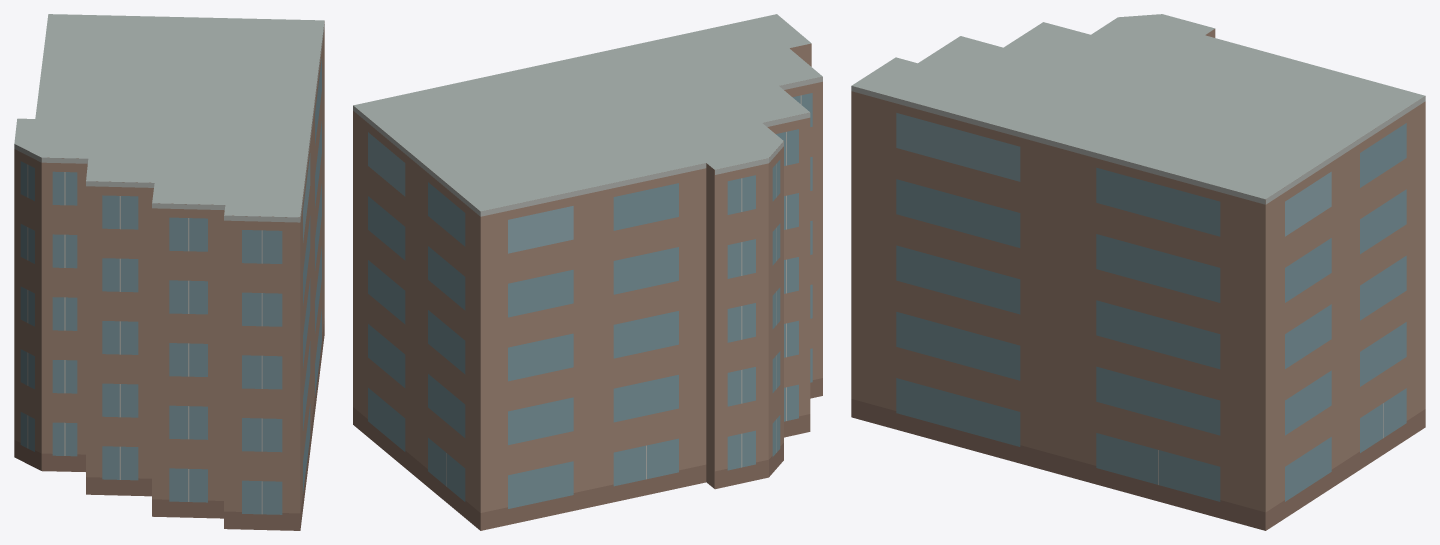
The model's file is survey-upis-32667222.glb.
3 renders of one model, left to right at view 1: azimuth 30°, elevation 25°; view 2: azimuth 150°, elevation 25°; view 3: azimuth 270°, elevation 25°, orthographic. The views are drawn at different scales.
Parts seen in each view (by area): view 1: survey-upis-32667222.tmp; view 2: survey-upis-32667222.tmp; view 3: survey-upis-32667222.tmp.
Boxes of the visible parts, x1,y1,x2,y2 form: survey-upis-32667222.tmp: [14, 14, 324, 530]; survey-upis-32667222.tmp: [353, 14, 822, 530]; survey-upis-32667222.tmp: [851, 14, 1425, 530].
Bounding box in the file's own units: 18 × 15 × 23.55.
